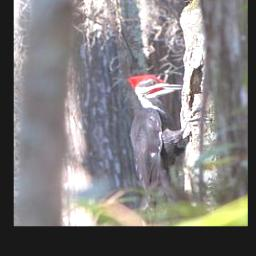Woodpecker: (124, 74, 213, 218)
